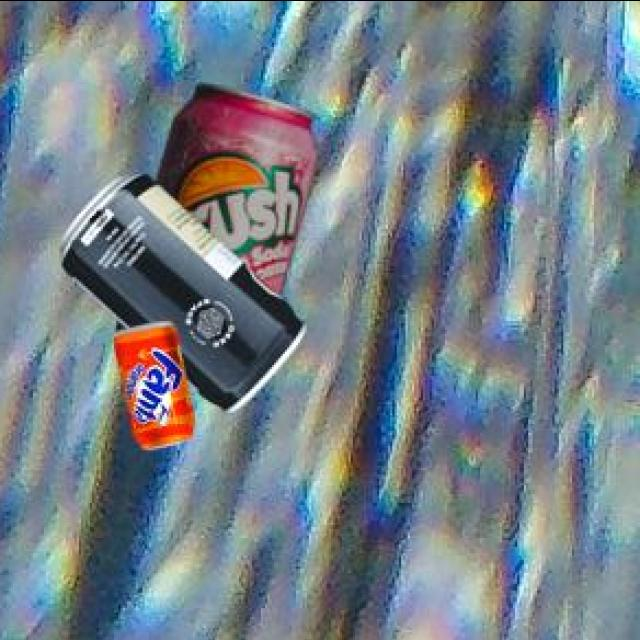logam: (58, 176, 304, 415), (152, 87, 315, 297), (111, 324, 192, 450)
